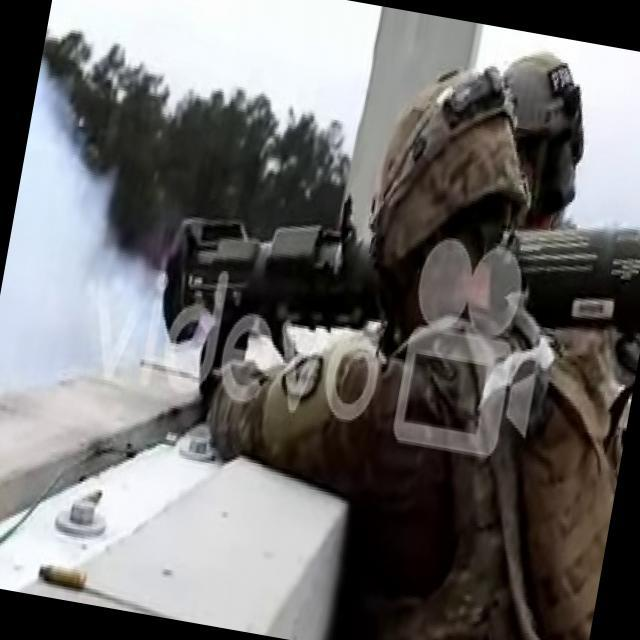rocket: (154, 155, 640, 414)
